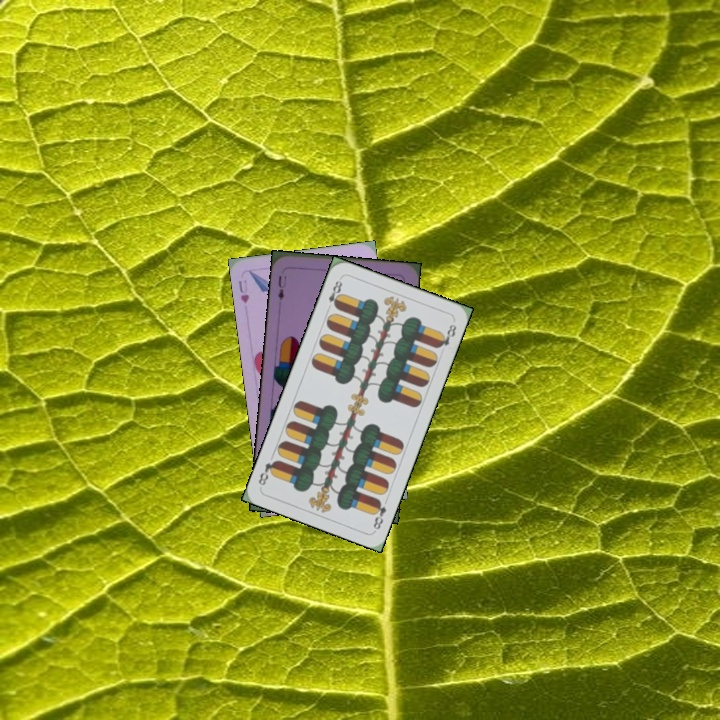E8: (324, 274, 345, 311), (369, 495, 389, 532)
EU: (274, 271, 289, 303)
HU: (234, 276, 252, 306)
